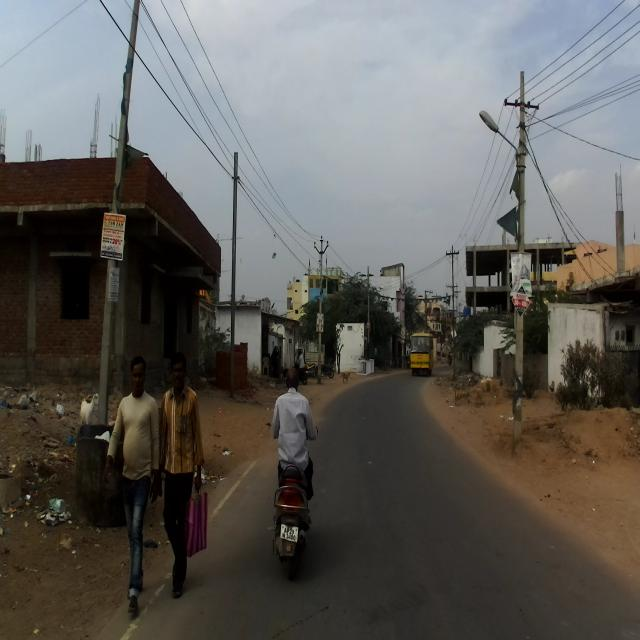motorcycle ahead at: (267, 459, 321, 574)
person ahead at: (109, 356, 161, 614), (162, 350, 208, 600)
